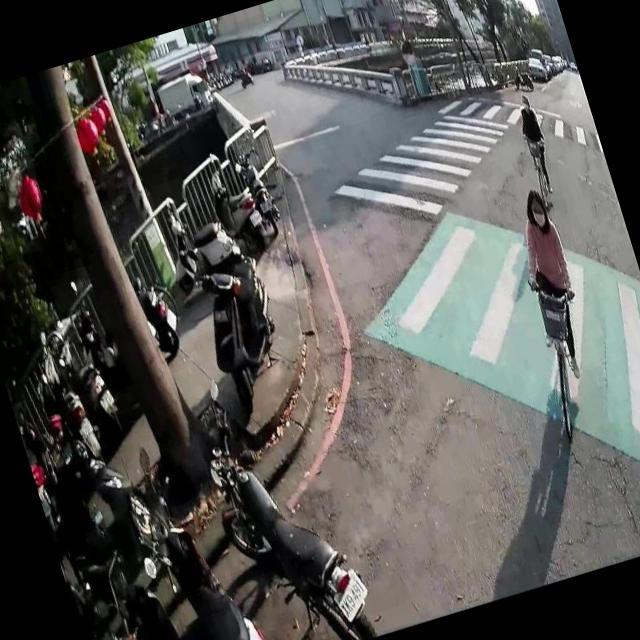person: (498, 176, 601, 384), (508, 89, 560, 194)
